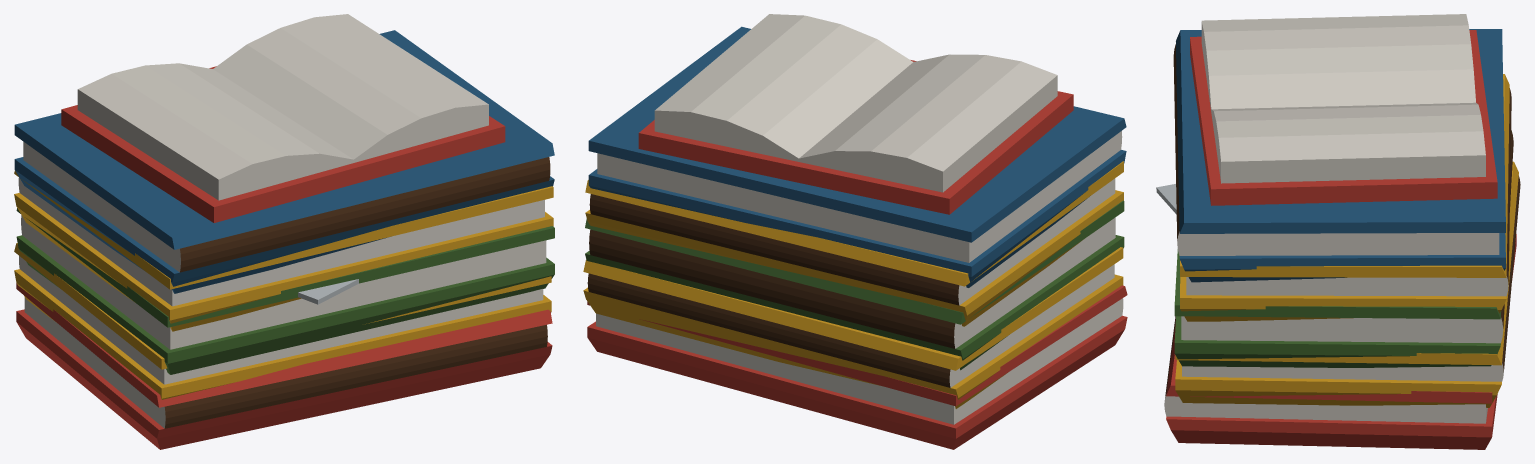
File: exercise-books.glb
The picture shows the model from 3 angles, left to right: view 1: azimuth 30°, elevation 25°; view 2: azimuth 150°, elevation 25°; view 3: azimuth 270°, elevation 25°; orthographic projection. The views are drawn at different scales.
Parts seen in each view (by area): view 1: exercise-book-stack; view 2: exercise-book-stack; view 3: exercise-book-stack.
Boxes of the visible parts, x1,y1,x2,y2 form: exercise-book-stack: (14,14,554,449); exercise-book-stack: (583,14,1127,449); exercise-book-stack: (1156,14,1520,449).
Bounding box in the file's own units: 0.2178 × 0.1379 × 0.1675.
